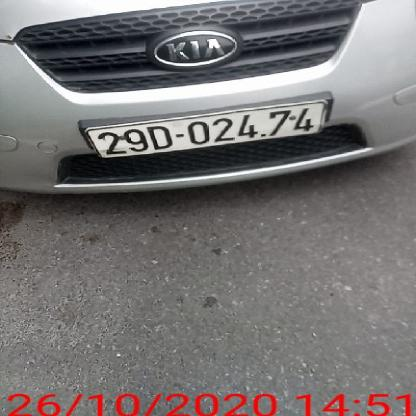biensoxe: (76, 99, 335, 161)
